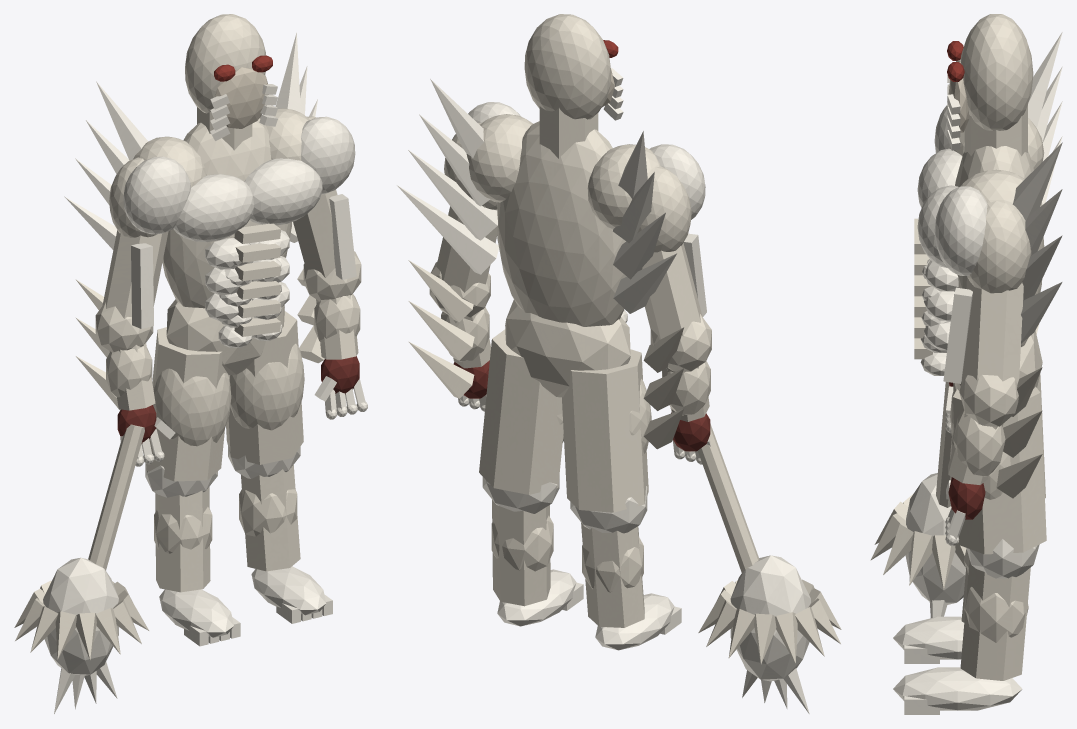
The model's file is war_hammer_titan.glb.
3 views of the same model, side by side, from view 1: azimuth 30°, elevation 25°; view 2: azimuth 150°, elevation 25°; view 3: azimuth 270°, elevation 25° (orthographic). The views are drawn at different scales.
Visible parts, largest first — view 1: white, white_light, white_dark, muscle_dark, red_eye; view 2: white, white_light, muscle_dark; view 3: white, white_light, muscle_dark, white_dark, red_eye.
Part boxes in pixels (x1,y1,x2,y2): white: (14,14,361,660); white_light: (43,32,367,713); white_dark: (215,67,268,128); muscle_dark: (117,356,359,443); red_eye: (214,55,272,81); white: (408,14,841,664); white_light: (397,67,811,714); muscle_dark: (453,360,710,451); white: (870,14,1046,680); white_light: (893,32,1062,714); muscle_dark: (948,382,985,519); white_dark: (948,60,969,132); red_eye: (947,41,964,81).
Bounding box in the file's own units: 3.04 × 5.09 × 1.25.
Materials: 5 (5 with a texture image).
